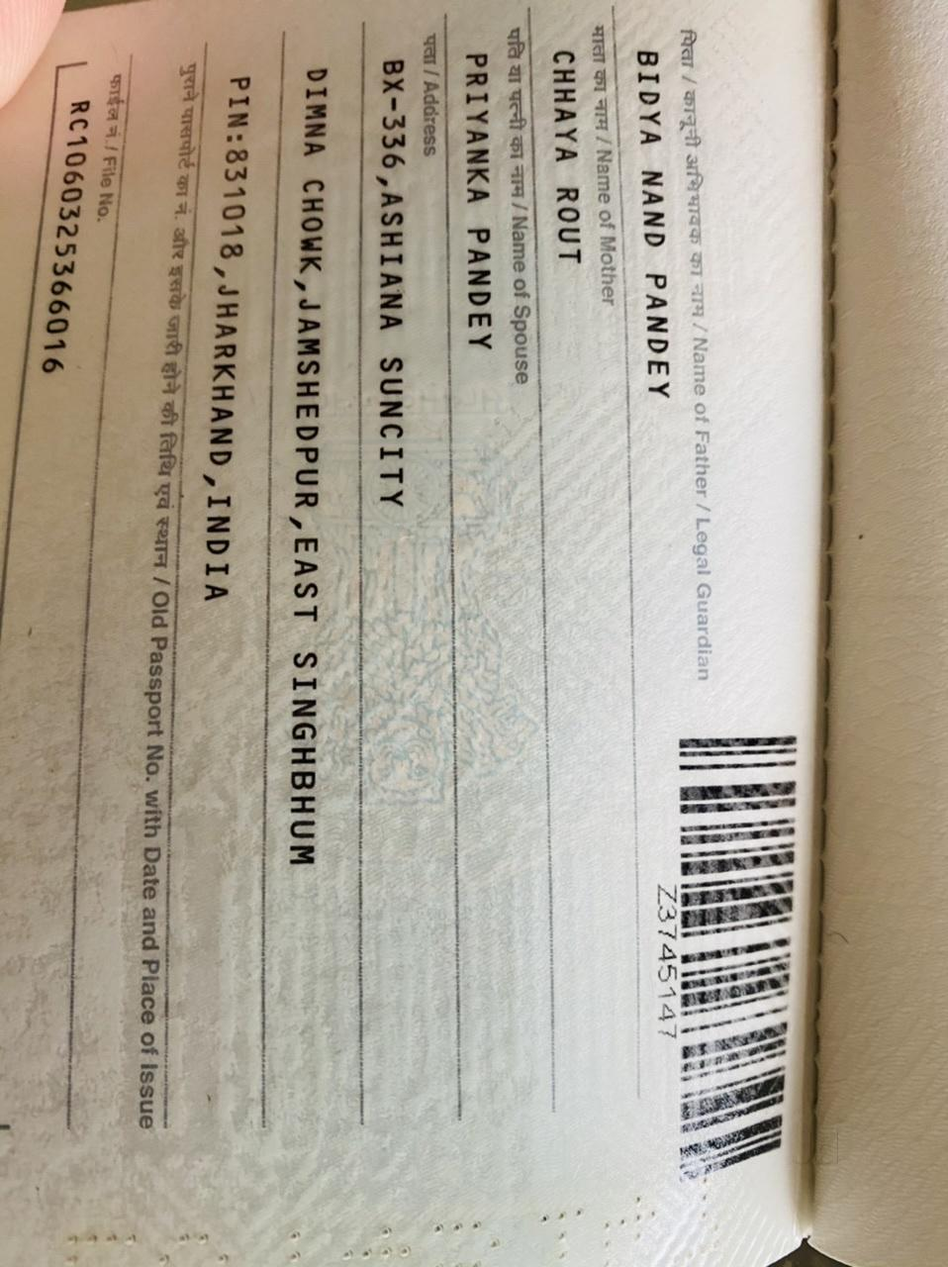File_no: (20, 89, 109, 392)
address: (200, 48, 429, 897)
father_name: (621, 32, 682, 418)
mother_name: (532, 5, 591, 279)
passport_no: (645, 875, 689, 1059)
spouse_name: (453, 32, 505, 362)
